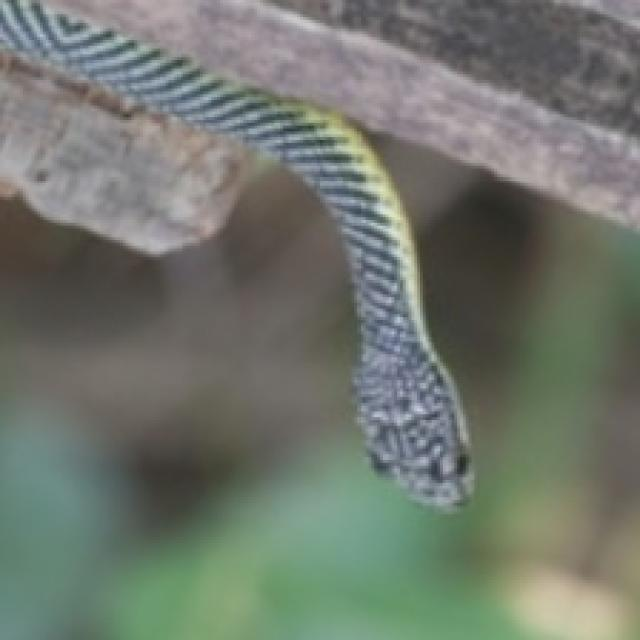paradise tree snake: (0, 0, 471, 506)
